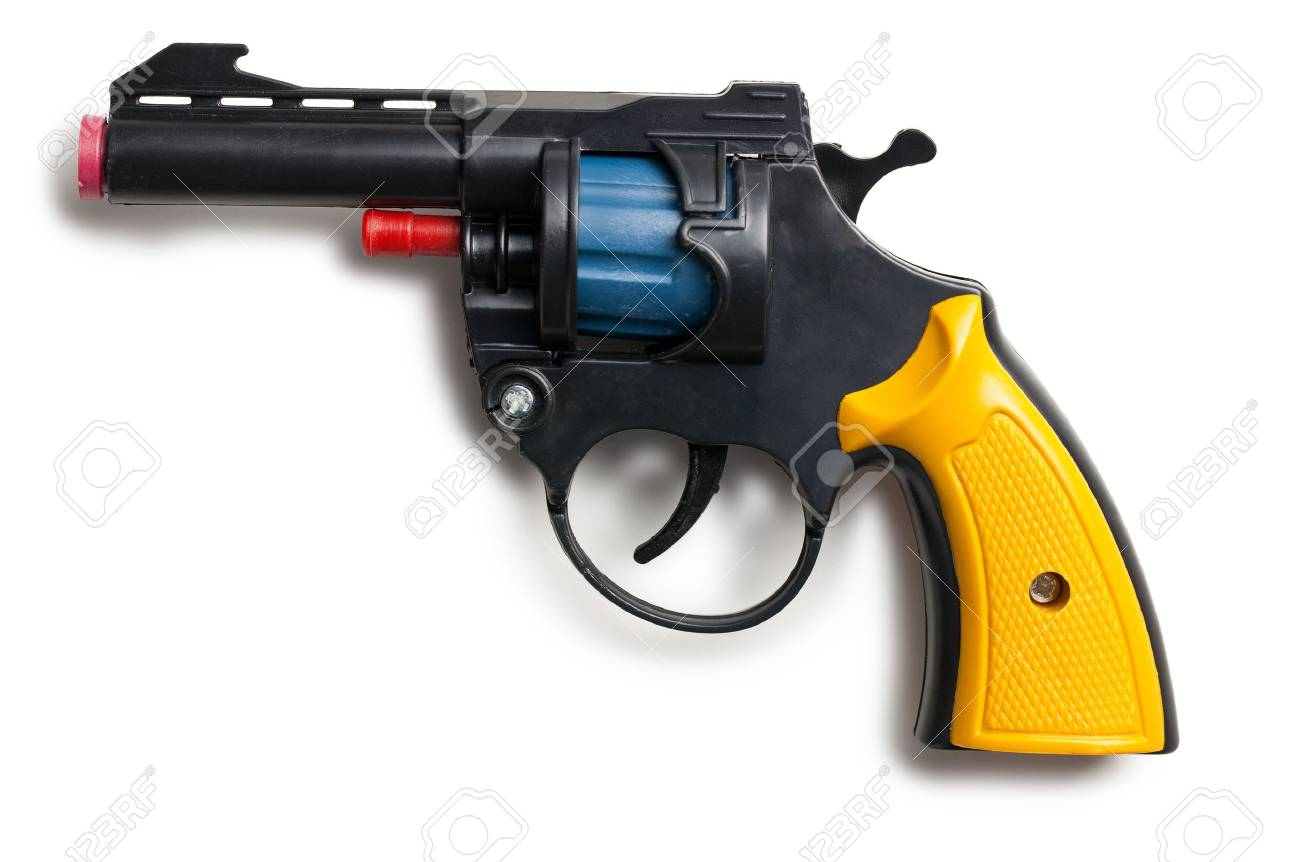Arma Falsa: (68, 29, 1199, 773)
